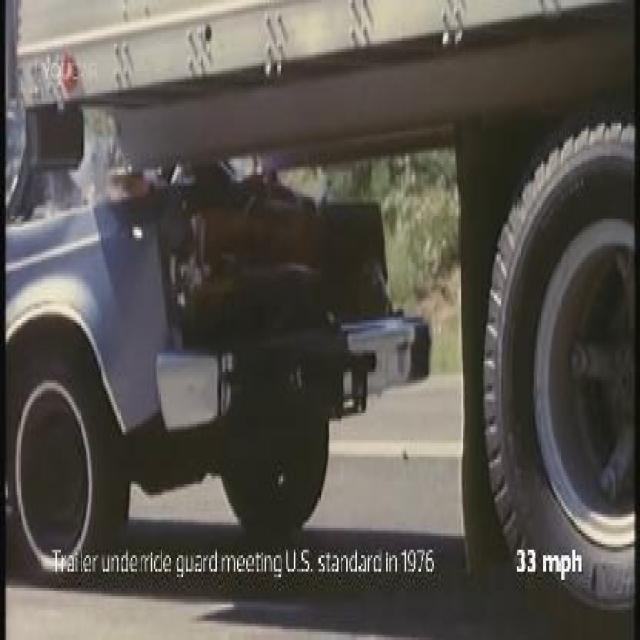accident: (4, 1, 636, 617)
